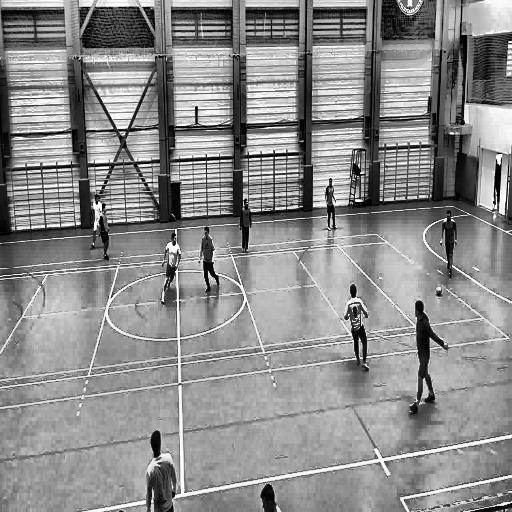ball: (434, 284, 444, 298)
player: (406, 300, 449, 418), (144, 428, 178, 512), (343, 284, 372, 374), (198, 226, 222, 296), (160, 232, 181, 306), (439, 210, 459, 284), (239, 194, 253, 256), (90, 194, 105, 251), (325, 176, 338, 234), (98, 204, 111, 262)
